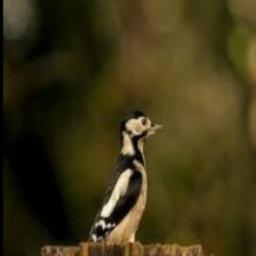Woodpecker: (88, 111, 165, 243)
